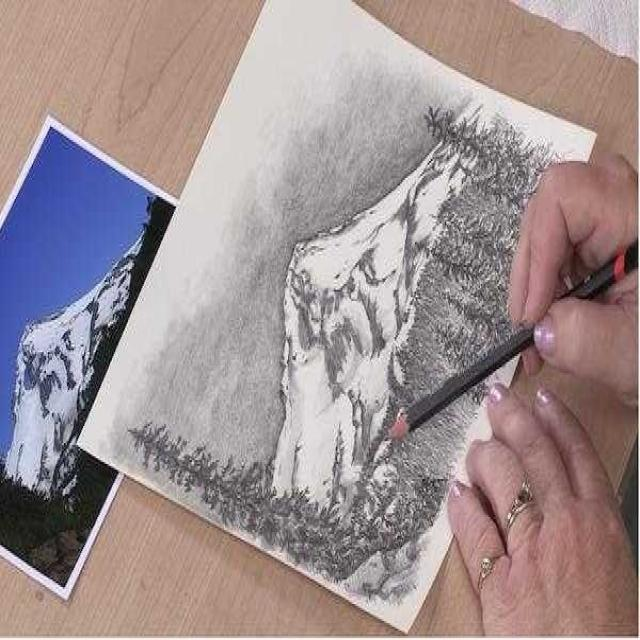pencil: (362, 209, 639, 456)
